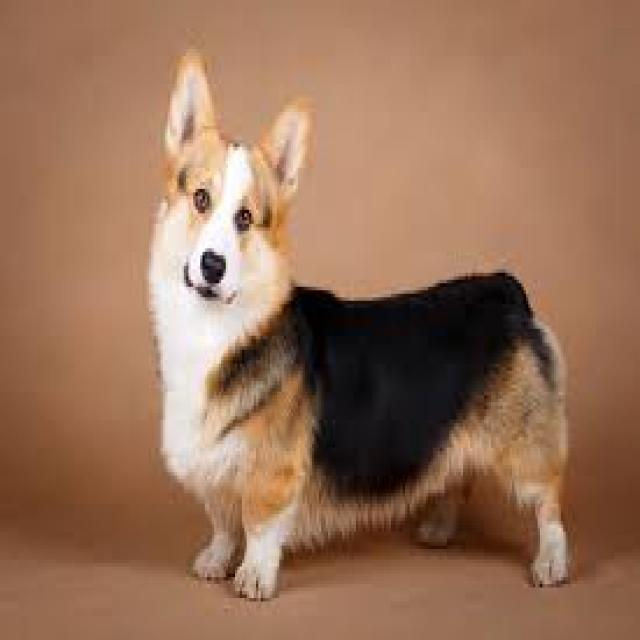CORGI: (136, 24, 586, 604)
